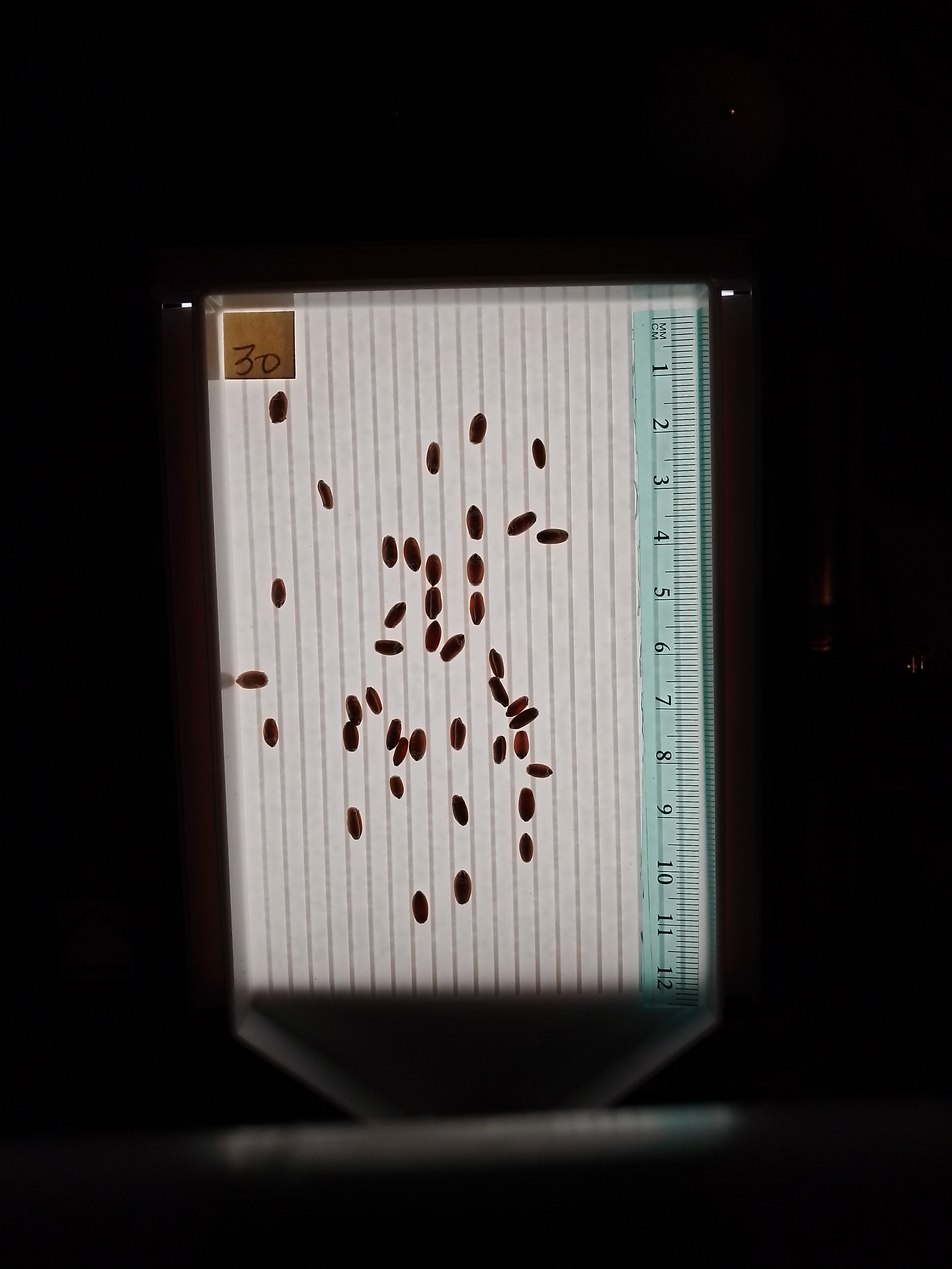seed mask: (507, 512, 536, 535), (441, 635, 465, 662), (269, 392, 288, 424), (510, 708, 538, 729), (404, 537, 421, 571), (454, 872, 472, 904), (518, 789, 535, 822), (489, 678, 508, 707), (237, 671, 267, 689), (467, 506, 483, 539), (412, 892, 429, 923), (425, 588, 442, 619), (469, 413, 486, 444), (425, 622, 442, 653), (385, 603, 406, 628), (537, 528, 567, 545), (467, 555, 484, 585), (425, 555, 442, 585), (450, 719, 466, 750), (452, 795, 468, 825), (343, 722, 359, 752), (410, 730, 426, 760), (382, 537, 398, 567), (532, 439, 548, 469), (346, 695, 363, 723), (347, 808, 362, 839), (469, 594, 484, 625), (318, 481, 334, 510), (366, 687, 383, 714), (263, 719, 279, 747), (271, 579, 286, 608), (519, 834, 534, 863), (426, 443, 440, 474), (394, 736, 409, 764), (507, 696, 528, 716), (513, 732, 529, 758), (387, 720, 401, 749), (489, 650, 504, 677), (375, 640, 402, 655), (527, 763, 552, 779), (493, 737, 506, 763), (390, 776, 403, 798)
